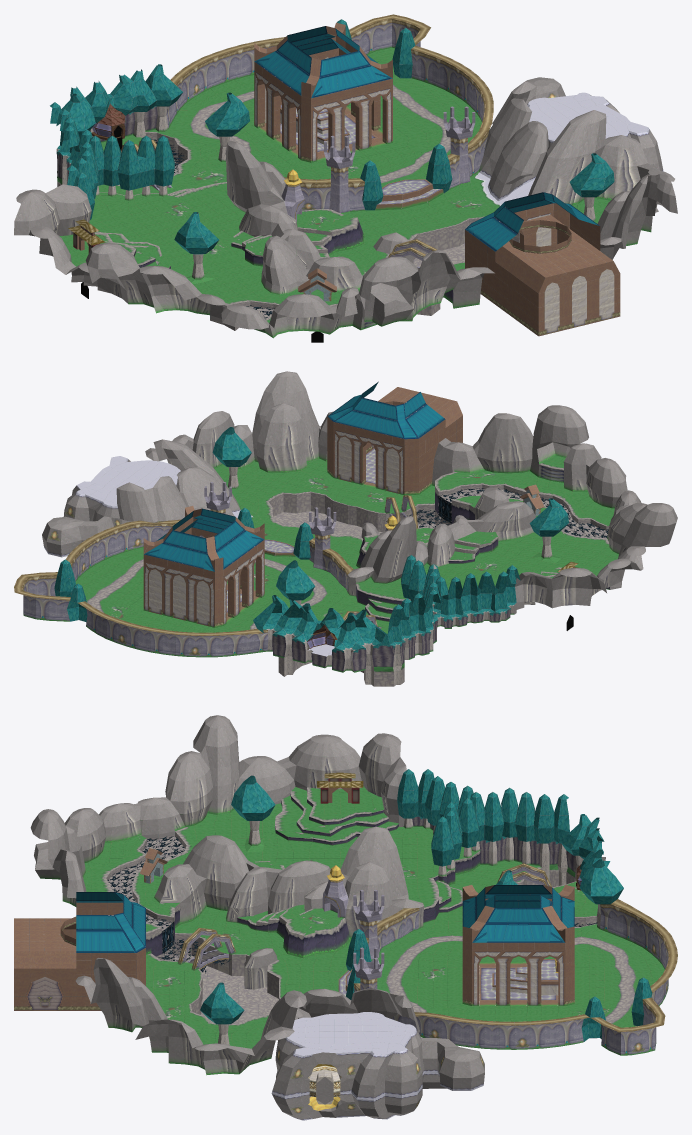
The model's file is Midday Garden.dae.
3 views of the same model, one above another, from view 1: azimuth 30°, elevation 25°; view 2: azimuth 150°, elevation 25°; view 3: azimuth 270°, elevation 25° (orthographic). The views are drawn at different scales.
Parts seen in each view (by area): view 1: Sector 1, Sector 55, Sector 150, Sector 119, Sector 2, Sector 83, Sector 46, Sector 94, Sector 36, Sector 72, Sector 123, Sector 132 (+76 smaller); view 2: Sector 10, Sector 7, Sector 132, Sector 153, Sector 94, Sector 25, Sector 53, Sector 127, Sector 101, Sector 123, Sector 119, Sector 81 (+67 smaller); view 3: Sector 119, Sector 38, Sector 79, Sector 109, Sector 72, Sector 82, Sector 7, Sector 132, Sector 154, Sector 140, Sector 83, Sector 150 (+79 smaller).
Boxes of the visible parts, x1=… form: Sector 1: x1=523, y1=249, x2=620, y2=336; Sector 55: x1=342, y1=180, x2=502, y2=246; Sector 150: x1=254, y1=25, x2=392, y2=105; Sector 119: x1=85, y1=243, x2=201, y2=313; Sector 2: x1=480, y1=215, x2=597, y2=324; Sector 83: x1=160, y1=62, x2=272, y2=158; Sector 46: x1=502, y1=110, x2=593, y2=176; Sector 94: x1=356, y1=256, x2=420, y2=329; Sector 36: x1=89, y1=195, x2=188, y2=241; Sector 72: x1=392, y1=45, x2=493, y2=121; Sector 123: x1=269, y1=287, x2=364, y2=337; Sector 132: x1=193, y1=37, x2=284, y2=120; Sector 10: x1=327, y1=423, x2=445, y2=495; Sector 7: x1=327, y1=381, x2=445, y2=445; Sector 132: x1=92, y1=610, x2=214, y2=656; Sector 153: x1=143, y1=573, x2=226, y2=627; Sector 94: x1=530, y1=405, x2=588, y2=482; Sector 25: x1=233, y1=413, x2=307, y2=472; Sector 53: x1=143, y1=516, x2=250, y2=571; Sector 127: x1=472, y1=413, x2=533, y2=473; Sector 101: x1=436, y1=531, x2=532, y2=584; Sector 123: x1=563, y1=443, x2=627, y2=508; Sector 119: x1=608, y1=503, x2=677, y2=557; Sector 81: x1=116, y1=476, x2=186, y2=522; Sector 119: x1=165, y1=715, x2=239, y2=827; Sector 38: x1=336, y1=1012, x2=424, y2=1100; Sector 79: x1=274, y1=780, x2=406, y2=845; Sector 109: x1=175, y1=878, x2=305, y2=960; Sector 72: x1=438, y1=1014, x2=600, y2=1049; Sector 82: x1=238, y1=734, x2=361, y2=802; Sector 7: x1=76, y1=892, x2=145, y2=960; Sector 132: x1=574, y1=929, x2=677, y2=1011; Sector 154: x1=340, y1=826, x2=408, y2=922; Sector 140: x1=377, y1=961, x2=471, y2=1018; Sector 83: x1=544, y1=906, x2=665, y2=966; Sector 150: x1=462, y1=885, x2=574, y2=949.
Size of the model in its own units: 57.76 by 54.73 by 11.16.
